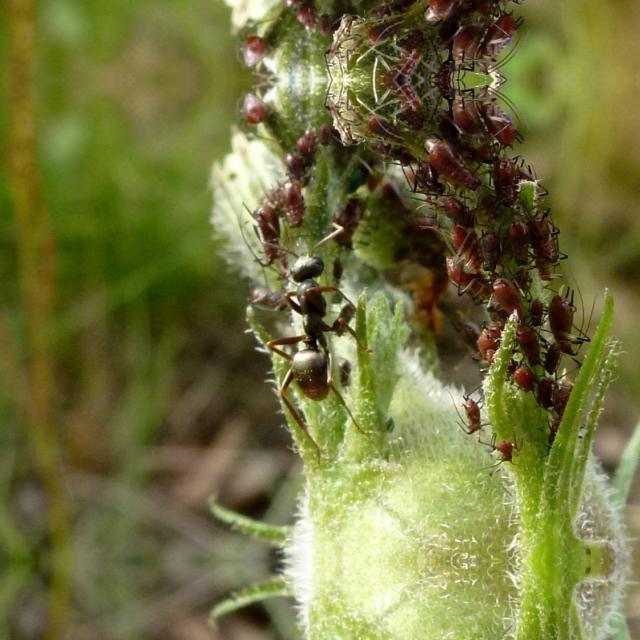Formica: (268, 235, 370, 420)
